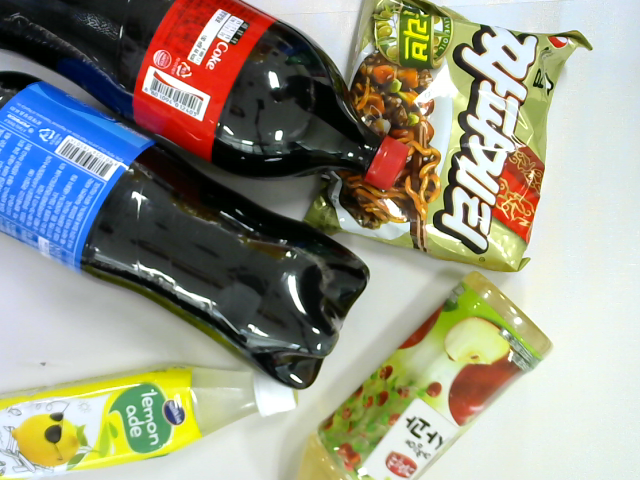Coca_Cola_1.5L: (1, 1, 412, 192)
Morning_Apple_500ml: (280, 270, 553, 480)
Olive_Chapaghetti: (297, 1, 594, 274)
Pepsi_Cola_1.5L: (1, 70, 371, 389)
Sunkist_Lemonaid_Pet: (1, 362, 300, 480)
